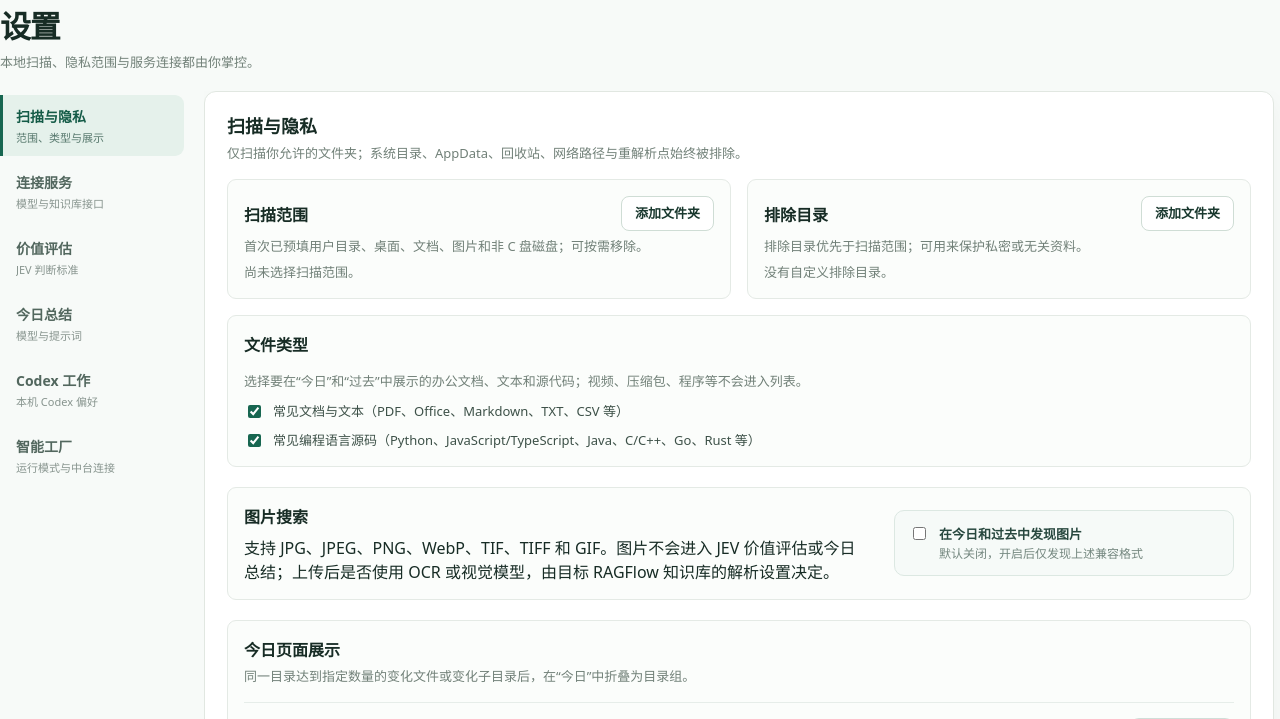
Test case: SettingsPage › sends a new key once and only displays its masked returned value
Click the button "连接服务 模型与知识库接口". click: coordinates (92, 191)
box: [0, 160, 184, 222]
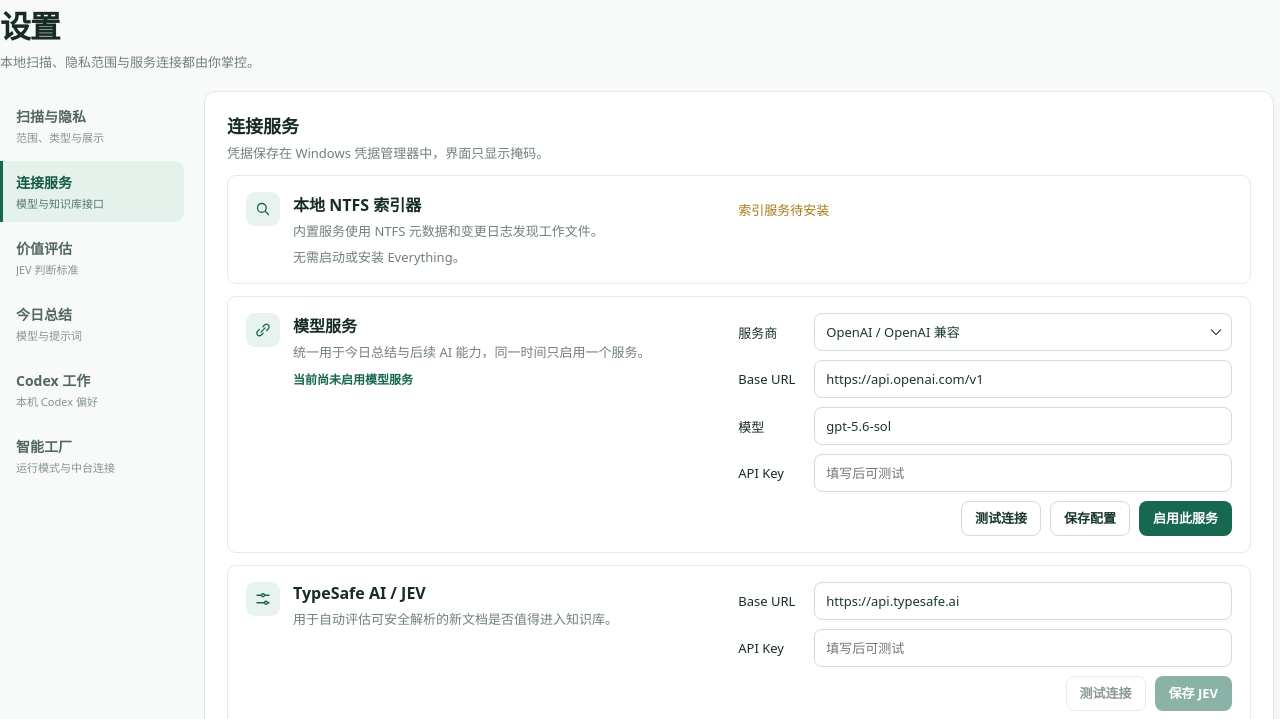
Replace the text in the field named "模型 Base URL" with "https://example.test/v1". click: coordinates (1023, 379)
box: [814, 360, 1232, 398]
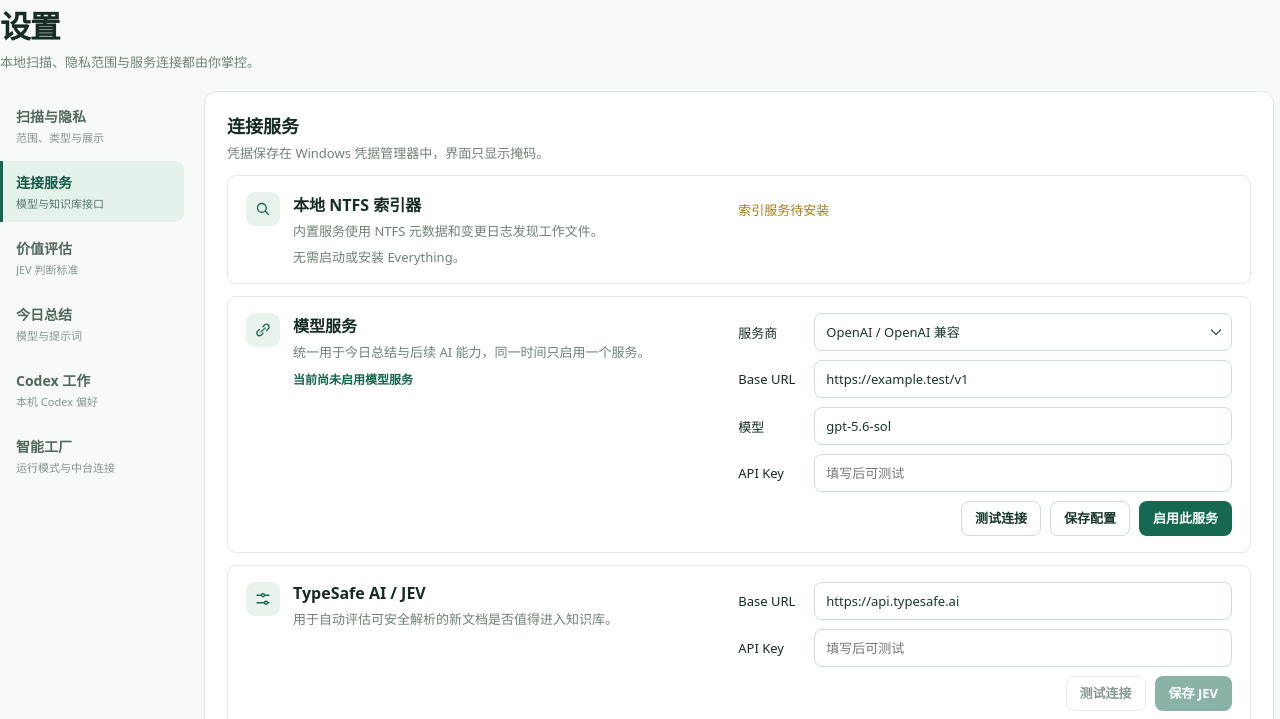
Type "test-secret-never-rendered" into the password field named "模型 API Key". click: coordinates (1023, 473)
box: [814, 454, 1232, 492]
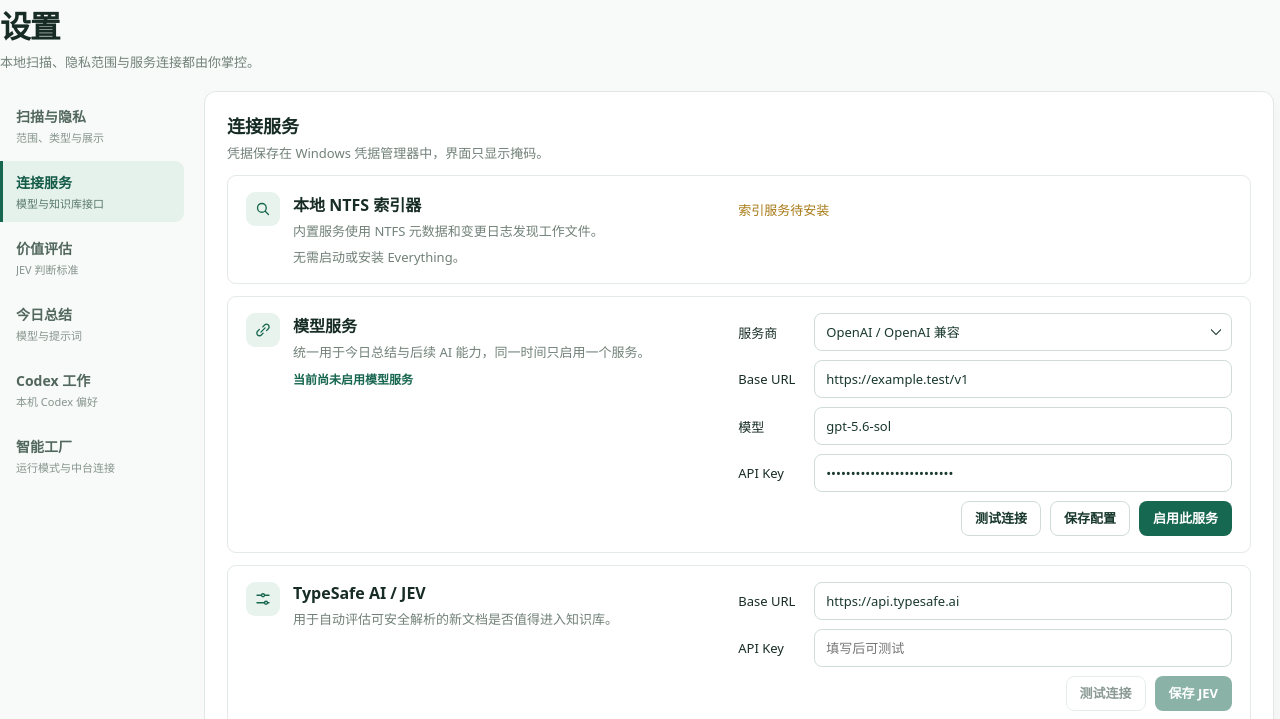
Click the button "保存配置". click: coordinates (1090, 518)
box: [1050, 501, 1130, 536]
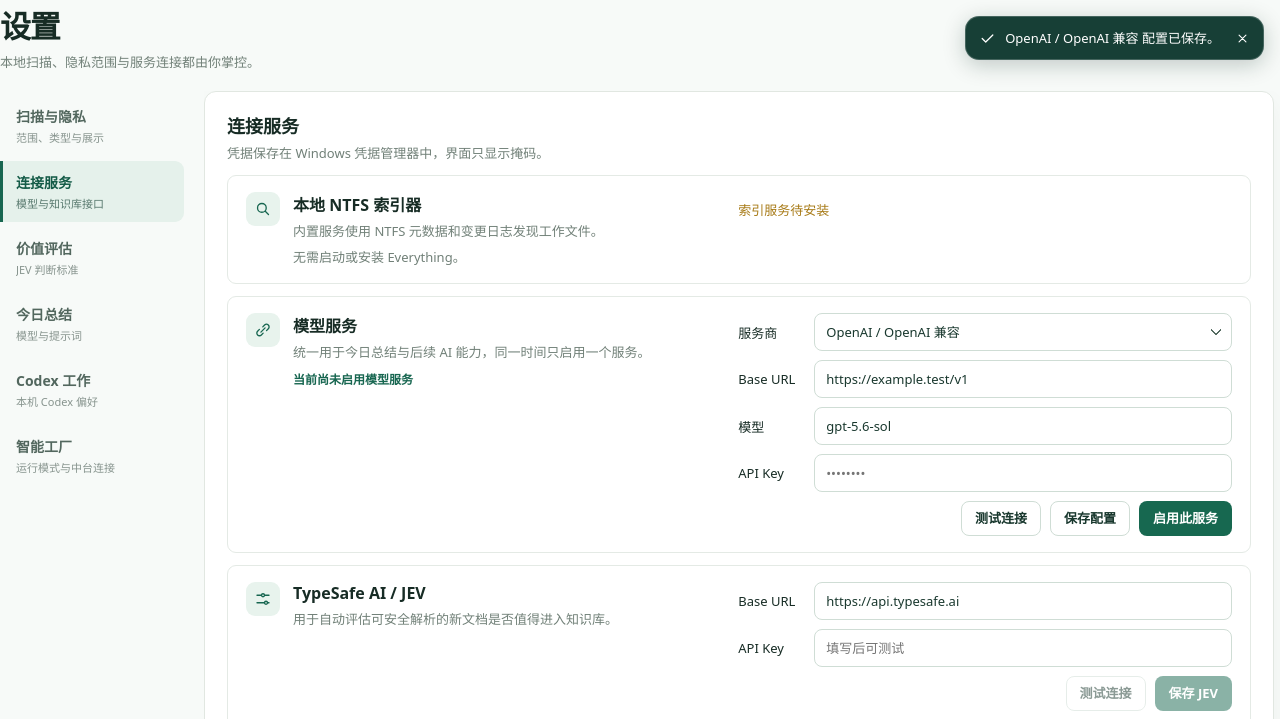
Result: the password field with placeholder "••••••••" below "服务商" is shown at [814, 454, 1232, 492]
